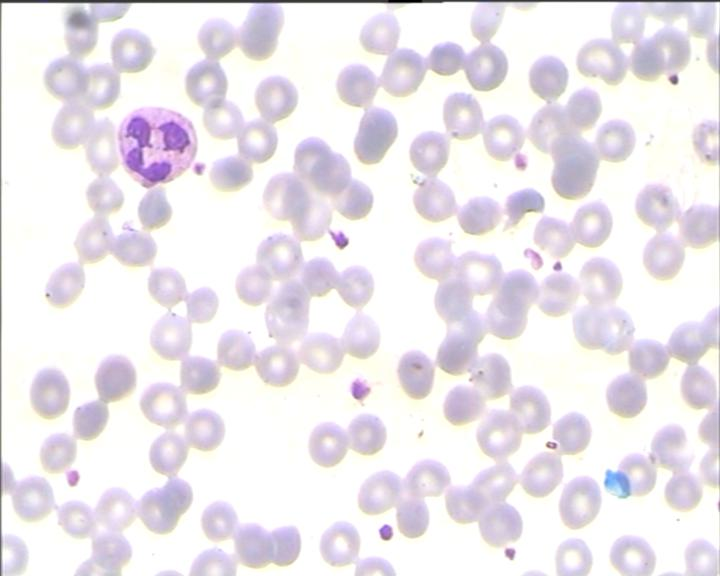neut: (116, 95, 199, 186)
